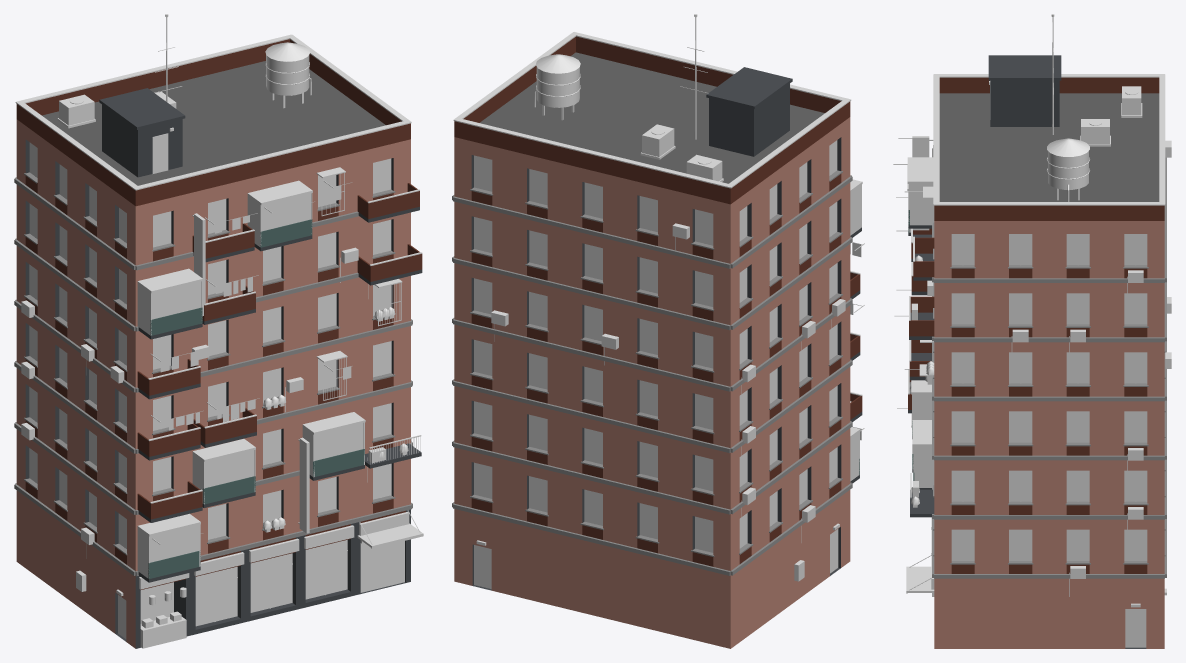
The model's file is LB_CW_House_B.fbx.
The picture shows the model from 3 angles, left to right: view 1: azimuth 30°, elevation 25°; view 2: azimuth 150°, elevation 25°; view 3: azimuth 270°, elevation 25°; orthographic projection. The views are drawn at different scales.
Parts seen in each view (by area): view 1: LB_CW_House_B_LOD0; view 2: LB_CW_House_B_LOD0; view 3: LB_CW_House_B_LOD0.
Boxes of the visible parts, x1,y1,x2,y2 form: LB_CW_House_B_LOD0: [14, 14, 423, 648]; LB_CW_House_B_LOD0: [452, 14, 864, 648]; LB_CW_House_B_LOD0: [893, 14, 1171, 648].
Size of what is drawn, in the model's own units: 16.73 by 31.51 by 14.5.
